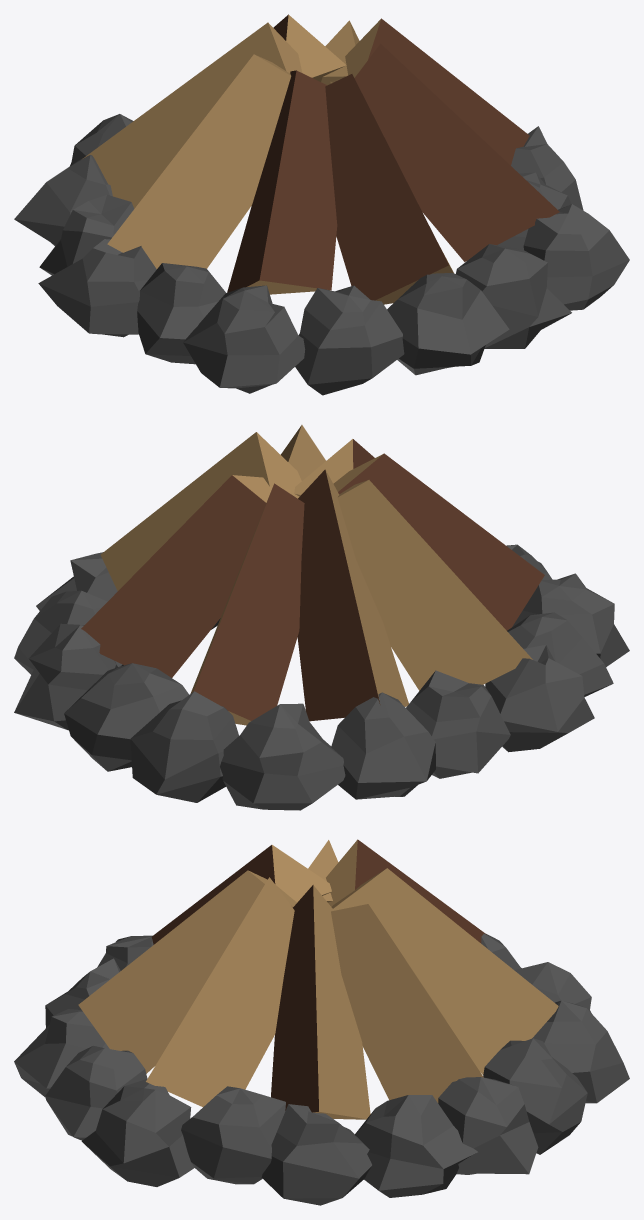
The model's file is Campfire.fbx.
3 renders of one model, top to bottom at view 1: azimuth 30°, elevation 25°; view 2: azimuth 150°, elevation 25°; view 3: azimuth 270°, elevation 25°, orthographic. The views are drawn at different scales.
Visible parts, largest first — view 1: Cube.009, Cube.006, Cube.007, Cube.008, Cube.004, Sphere.010, Sphere.011, Sphere.012, Sphere.008, Sphere.014, Sphere.013, Cube (+8 smaller); view 2: Cube.006, Cube.002, Cube.004, Cube.003, Cube.007, Sphere.005, Sphere.004, Sphere.006, Sphere.003, Sphere.008, Cube, Sphere.007 (+7 smaller); view 3: Cube.009, Cube.003, Cube, Cube.002, Cube.008, Sphere.001, Sphere.014, Sphere, Sphere.015, Sphere.002, Sphere.003, Sphere.013 (+9 smaller).
Part boxes in pixels (x1,y1,x2,y2): Cube.009: (354, 43, 559, 261); Cube.006: (107, 54, 291, 268); Cube.007: (227, 70, 337, 294); Cube.008: (325, 74, 453, 304); Cube.004: (82, 22, 302, 208); Sphere.010: (183, 285, 305, 393); Sphere.011: (295, 285, 404, 395); Sphere.012: (387, 273, 509, 375); Sphere.008: (38, 239, 156, 337); Sphere.014: (523, 204, 629, 310); Sphere.013: (456, 244, 571, 348); Cube: (330, 18, 529, 165); Cube.006: (337, 480, 532, 690); Cube.002: (81, 475, 290, 677); Cube.004: (297, 469, 408, 721); Cube.003: (190, 483, 304, 725); Cube.007: (333, 453, 544, 630); Sphere.005: (220, 703, 345, 810); Sphere.004: (130, 691, 238, 802); Sphere.006: (331, 692, 435, 799); Sphere.003: (64, 663, 189, 771); Sphere.008: (485, 645, 594, 752); Cube: (100, 432, 301, 590); Sphere.007: (406, 670, 510, 778); Cube.009: (146, 877, 294, 1106); Cube.003: (331, 868, 558, 1074); Cube: (271, 885, 370, 1119); Cube.002: (331, 904, 483, 1102); Cube.008: (78, 870, 296, 1073); Sphere.001: (355, 1095, 477, 1197); Sphere.014: (81, 1079, 194, 1186); Sphere: (261, 1104, 372, 1205); Sphere.015: (181, 1086, 285, 1184); Sphere.002: (438, 1077, 538, 1174); Sphere.003: (483, 1038, 587, 1154); Sphere.013: (45, 1045, 147, 1140).
Bounding box in the file's own units: 1.21 × 0.5671 × 1.27.
